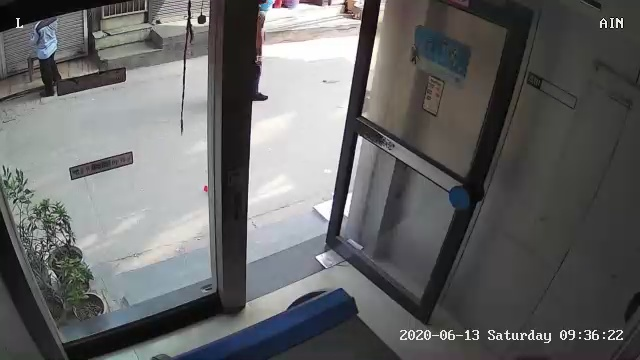open: (185, 4, 550, 326)
